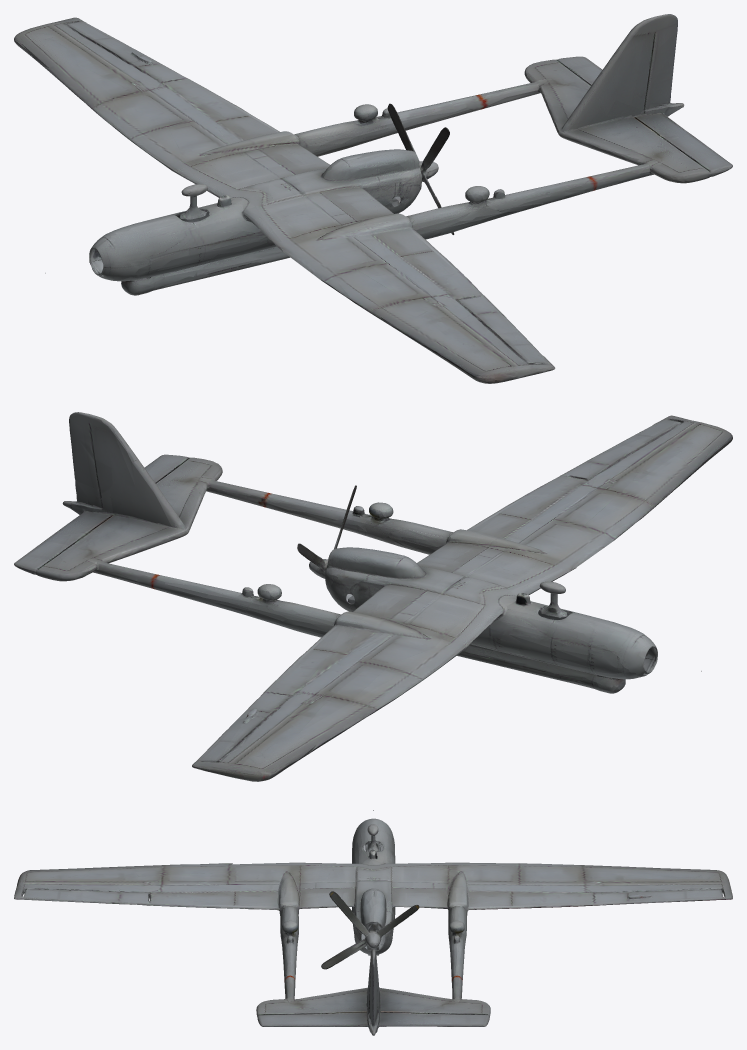
File: orlan.glb
The picture shows the model from 3 angles, top to bottom: view 1: azimuth 30°, elevation 25°; view 2: azimuth 150°, elevation 25°; view 3: azimuth 270°, elevation 25°; orthographic projection. The views are drawn at different scales.
Bounding box in the file's own units: 1.46 × 0.3282 × 1.9.
1 material, 1 textured.
